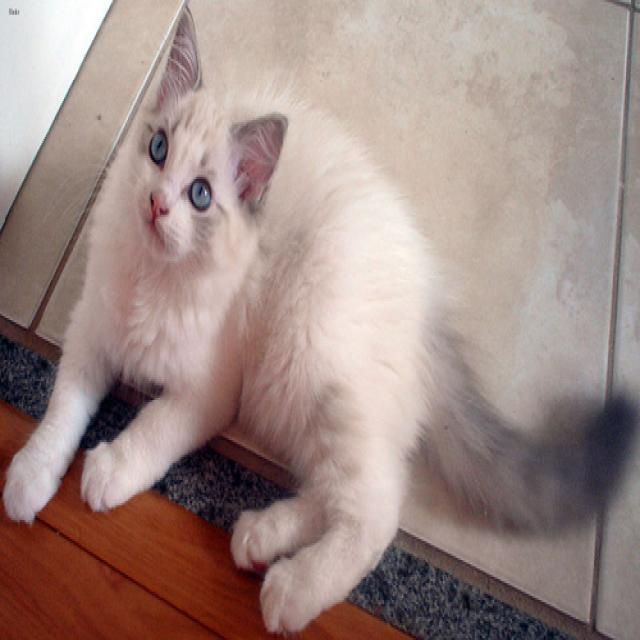Ragdoll: (131, 0, 286, 255)
